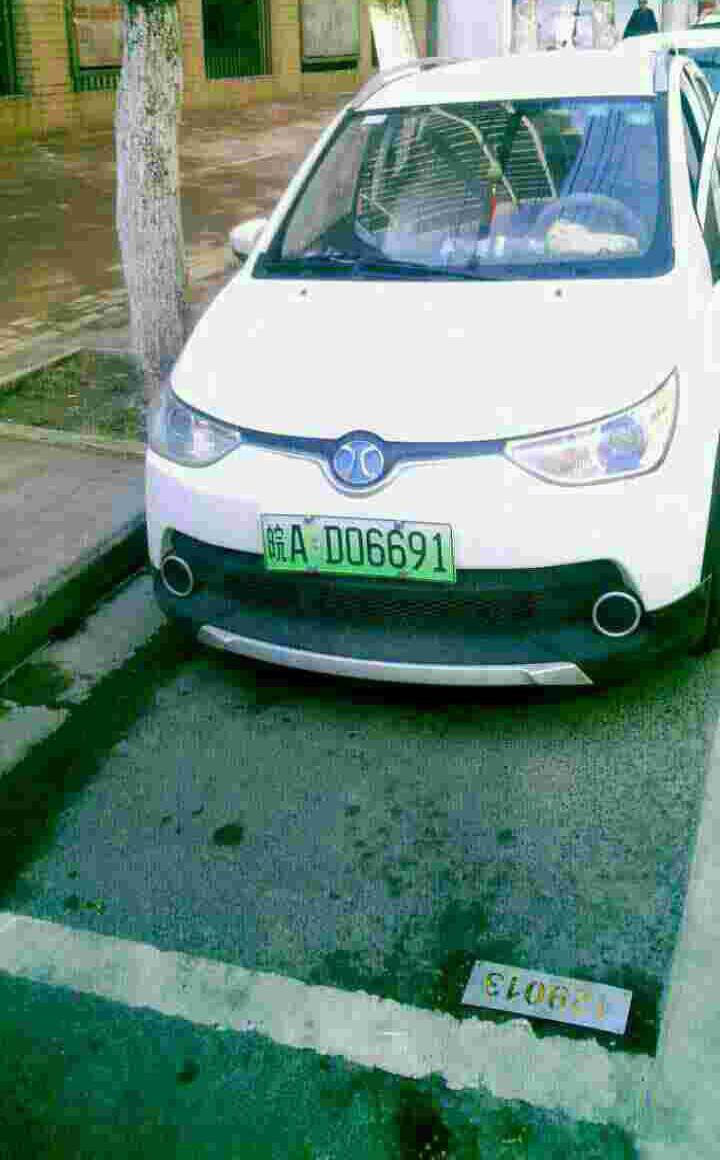car_id: (260, 514, 454, 583)
